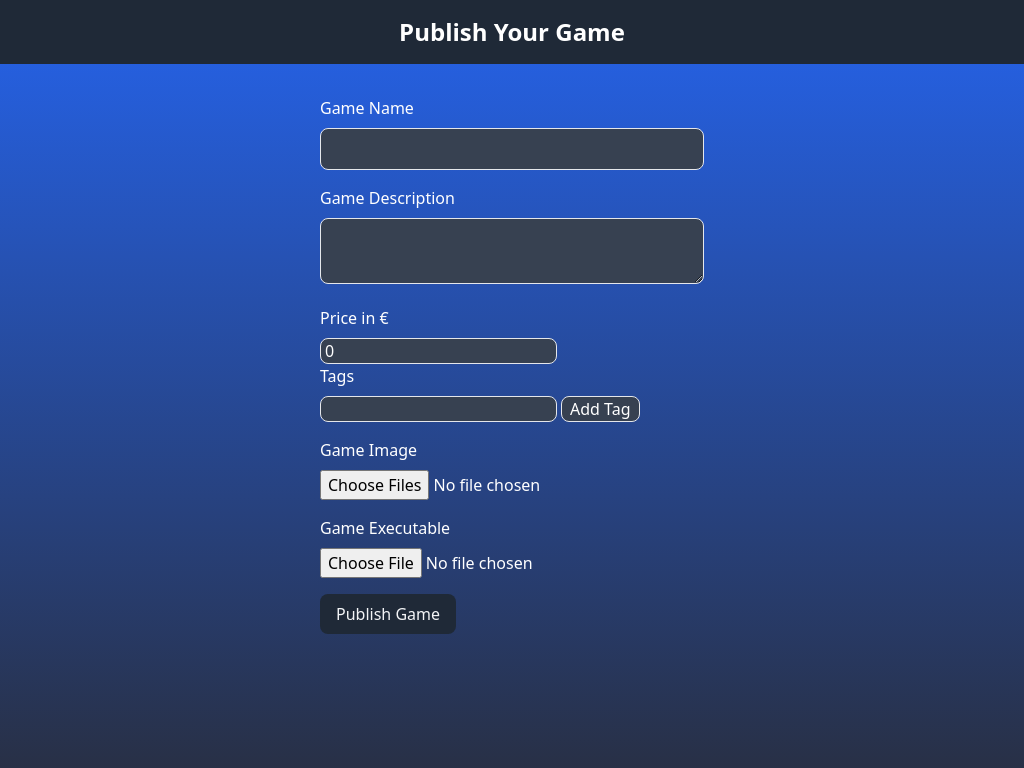
Test: PublishYourGames component › Should print Errors when price is wrong
Replace the text in the number field labelled "Price in €" with "-10.99" at {"x": 438, "y": 351}, box [320, 338, 557, 364]
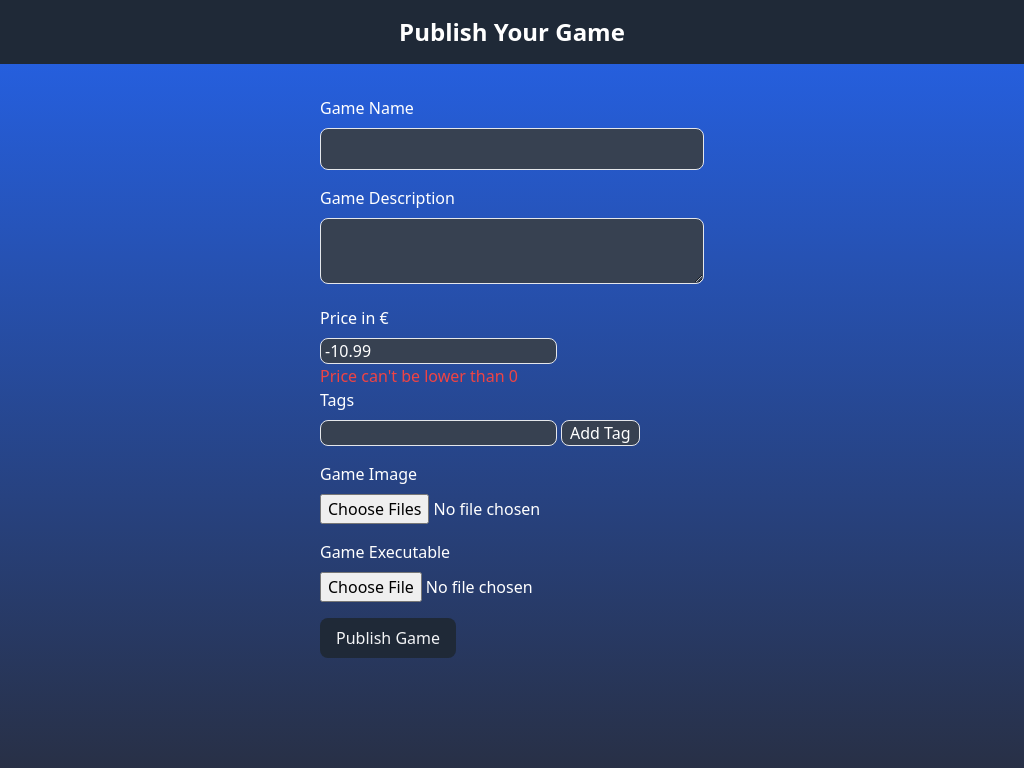
expect the text "Price can't be lower than 0" is shown: met, box [320, 365, 518, 387]
Replace the text in the number field labelled "Price in €" with "Abc" at {"x": 438, "y": 351}, box [320, 338, 557, 364]
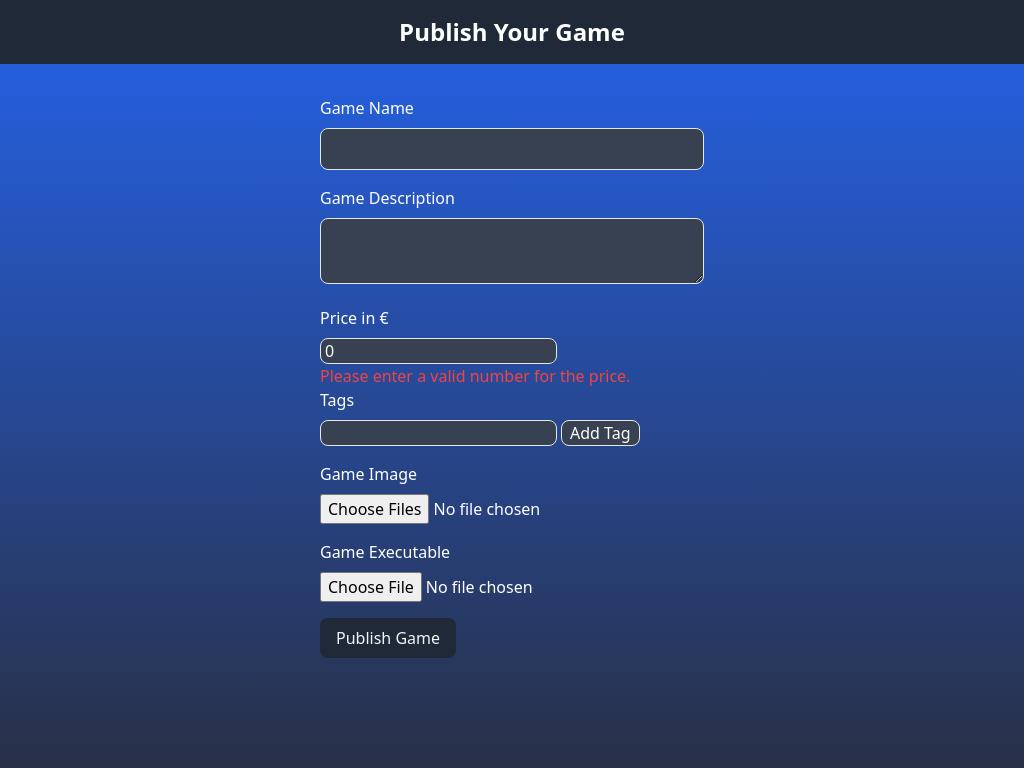
expect the text "Please enter a valid number for the price." is shown: met, box [320, 365, 630, 387]
